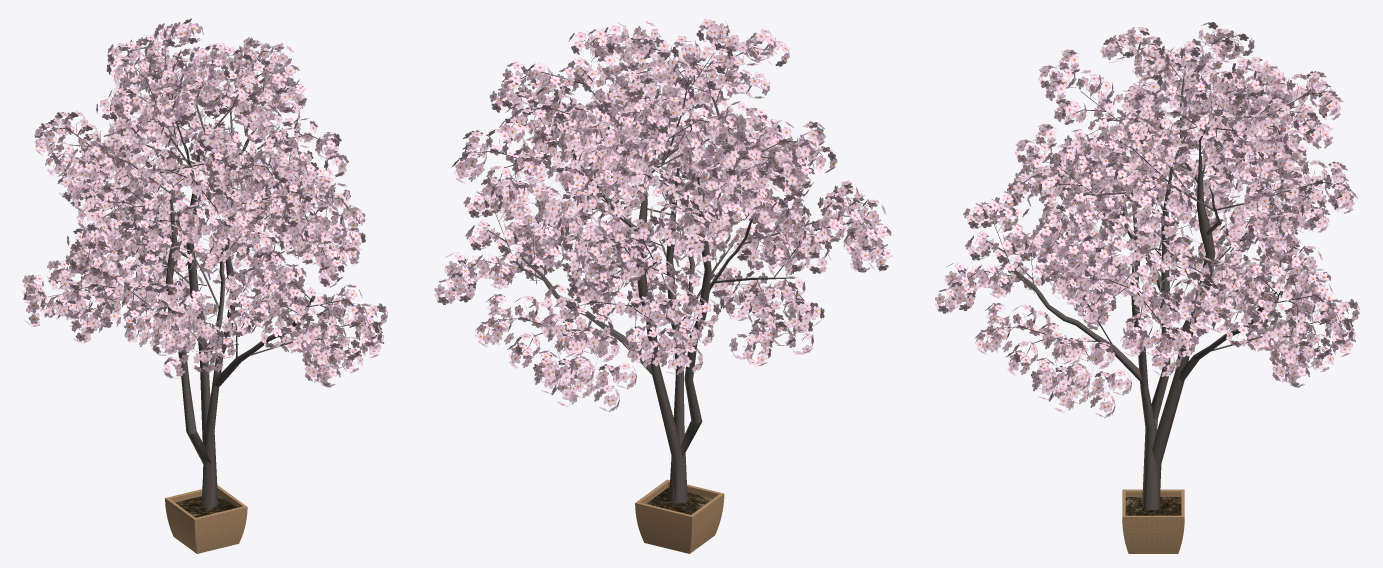
Rendered from sakurauncut.obj.
3 renders of one model, left to right at view 1: azimuth 30°, elevation 25°; view 2: azimuth 150°, elevation 25°; view 3: azimuth 270°, elevation 25°, orthographic. The views are drawn at different scales.
Parts seen in each view (by area): view 1: obj500, obj1, obj2, obj499; view 2: obj500, obj1, obj2, obj501; view 3: obj500, obj1, obj499, obj2, obj501.
Boxes of the visible parts, x1=… form: obj500: x1=165, y1=146, x2=236, y2=508; obj1: x1=165, y1=485, x2=247, y2=553; obj2: x1=175, y1=493, x2=237, y2=517; obj499: x1=213, y1=299, x2=312, y2=386; obj500: x1=636, y1=155, x2=711, y2=503; obj1: x1=635, y1=479, x2=724, y2=553; obj2: x1=646, y1=487, x2=713, y2=514; obj501: x1=521, y1=257, x2=652, y2=375; obj500: x1=1131, y1=156, x2=1215, y2=510; obj1: x1=1122, y1=489, x2=1184, y2=553; obj499: x1=1014, y1=269, x2=1142, y2=382; obj2: x1=1125, y1=497, x2=1181, y2=515; obj501: x1=1179, y1=291, x2=1276, y2=381.
Size of the model in its own units: 24.64 by 34.31 by 26.24.
Materials: 4 (4 with a texture image).
